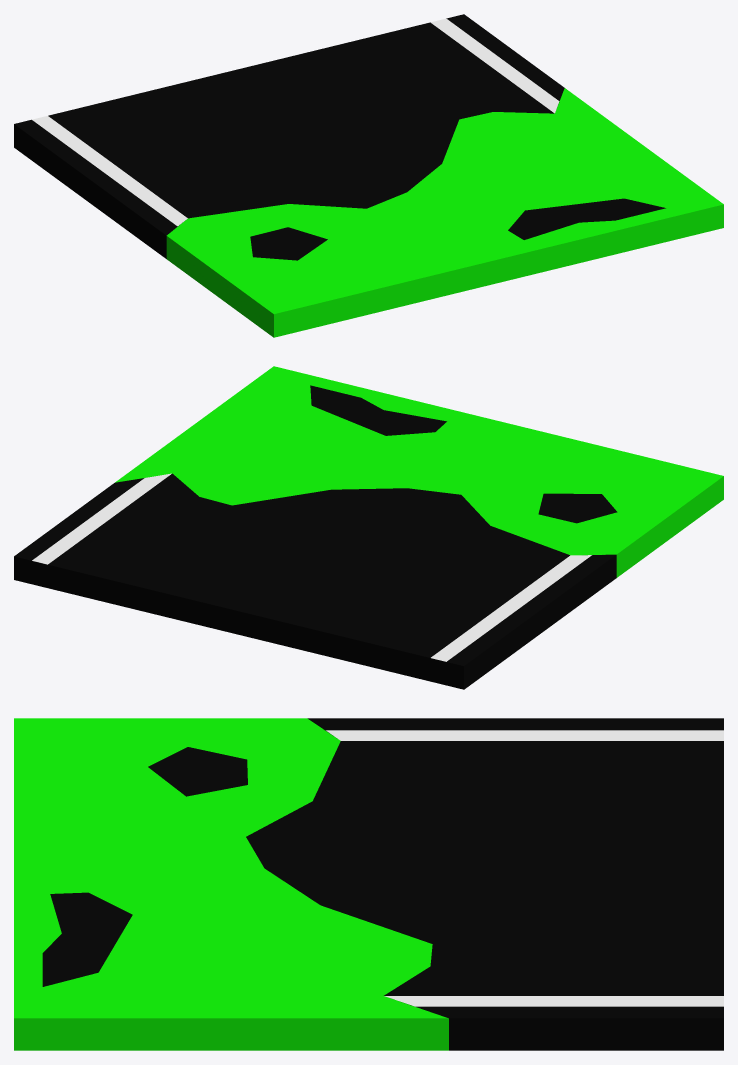
The model's file is roadgradient_export.fbx.
The picture shows the model from 3 angles, top to bottom: view 1: azimuth 30°, elevation 25°; view 2: azimuth 150°, elevation 25°; view 3: azimuth 270°, elevation 25°; orthographic projection. The views are drawn at different scales.
Visible parts, largest first — view 1: Road, Grass, Road.002; view 2: Road, Grass, Road.002; view 3: Road, Grass, Road.002.
Boxes of the visible parts, x1,y1,x2,y2 form: Road: [14, 14, 564, 258]; Grass: [166, 88, 723, 337]; Road.002: [250, 198, 665, 260]; Road: [14, 473, 616, 689]; Grass: [115, 366, 723, 577]; Road.002: [310, 385, 617, 523]; Road: [246, 718, 723, 1050]; Grass: [14, 718, 448, 1050]; Road.002: [42, 747, 247, 986].
Size of what is drawn, in the model's own units: 2000 by 100 by 2000.
